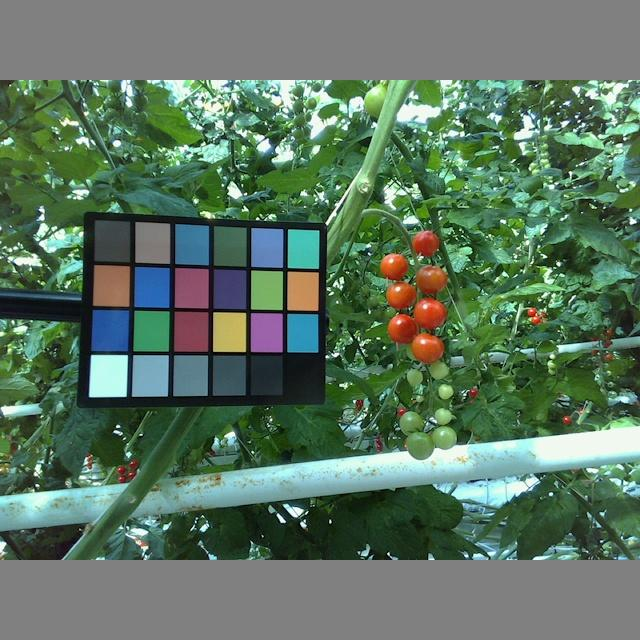green: (363, 85, 396, 120), (406, 430, 434, 459), (397, 410, 425, 437), (432, 423, 456, 450), (428, 358, 449, 381), (405, 367, 424, 388), (434, 407, 452, 425), (436, 383, 453, 400)
pink: (412, 296, 448, 329), (415, 263, 449, 295), (411, 332, 446, 363), (387, 310, 418, 344), (387, 278, 417, 309), (411, 229, 439, 257), (382, 252, 408, 281)
